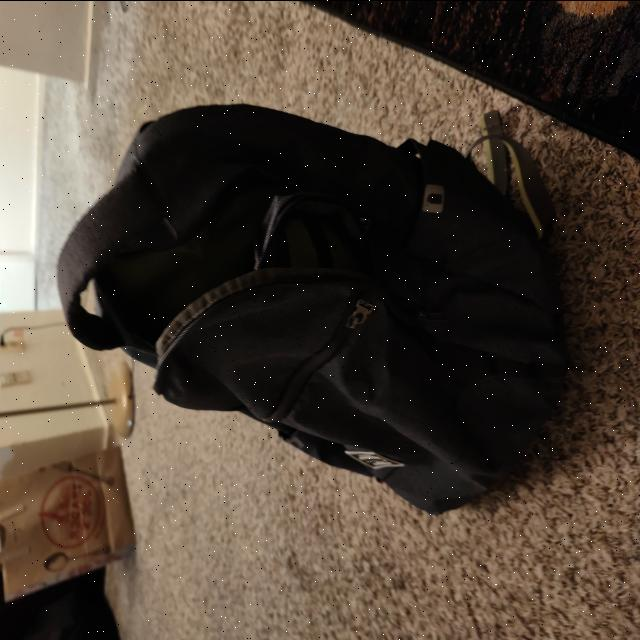bag: (49, 110, 562, 516)
